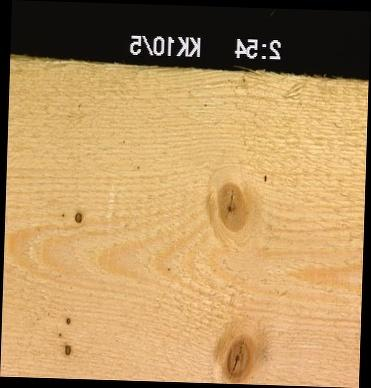dry_knot: (73, 210, 83, 224), (63, 343, 71, 355), (64, 315, 71, 325)
sound_knot: (222, 331, 254, 384), (215, 181, 248, 232)
